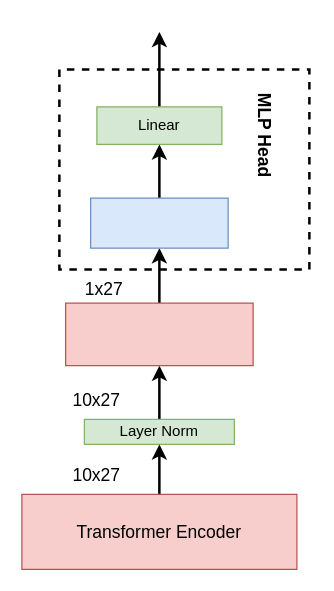
This 334x591 diagram has some shape labels left out. Here are the shapes that lost their labels. From the top down, the centre of each, then its label:
At [158,222]: "Pre-Logits".
At [158,334]: "Extract Class Token".
